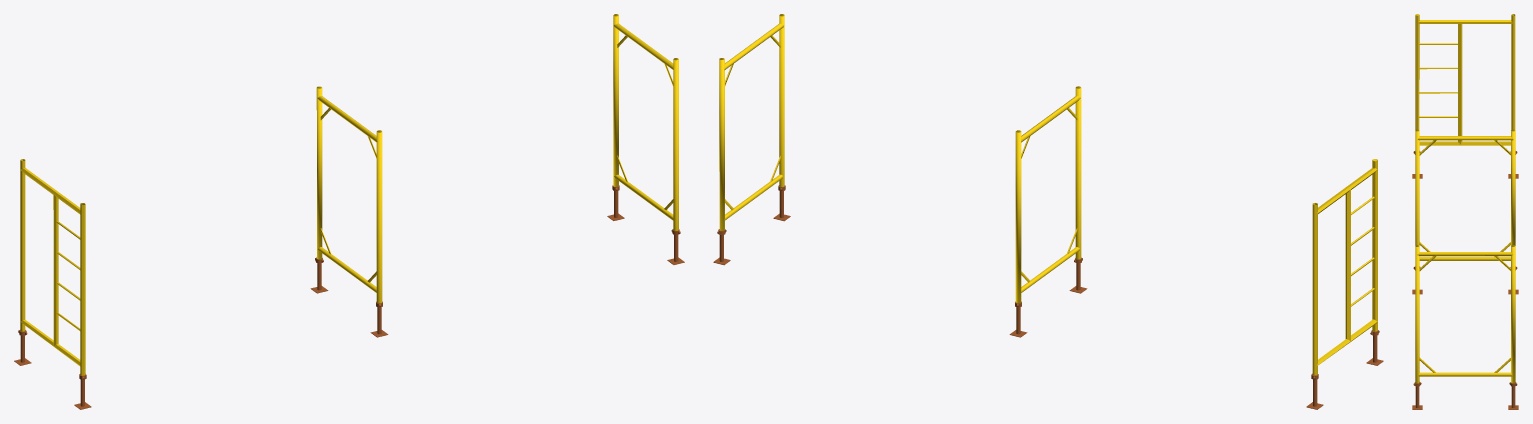
Rendered from SM_Andaime_Base.fbx.
3 renders of one model, left to right at view 1: azimuth 30°, elevation 25°; view 2: azimuth 150°, elevation 25°; view 3: azimuth 270°, elevation 25°, orthographic. The views are drawn at different scales.
Parts seen in each view (by area): view 1: andaime.quadro_lateral_base, andaime.quadro_lateral_base_escada, andaime.base; view 2: andaime.quadro_lateral_base, andaime.quadro_lateral_base_escada, andaime.base; view 3: andaime.quadro_lateral_base, andaime.quadro_lateral_base_escada, andaime.base.
Boxes of the visible parts, x1,y1,x2,y2 form: andaime.quadro_lateral_base: (316,14,678,303); andaime.quadro_lateral_base_escada: (20,159,85,375); andaime.base: (14,185,684,409); andaime.quadro_lateral_base: (719,14,1081,303); andaime.quadro_lateral_base_escada: (1312,159,1377,375); andaime.base: (713,185,1383,409); andaime.quadro_lateral_base: (1415,129,1515,383); andaime.quadro_lateral_base_escada: (1415,14,1515,145); andaime.base: (1412,151,1518,409).
Bounding box in the file's own units: 6.11 × 1.17 × 1.96.
